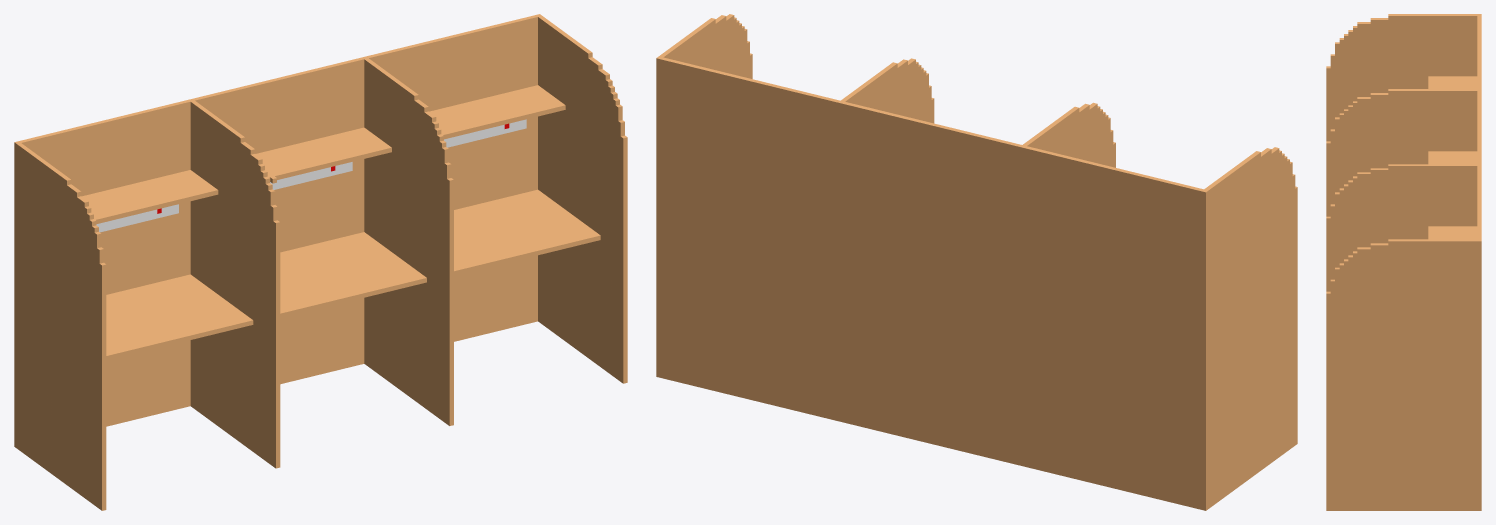
Rendered from oh my desk-1.obj.
3 renders of one model, left to right at view 1: azimuth 30°, elevation 25°; view 2: azimuth 150°, elevation 25°; view 3: azimuth 270°, elevation 25°, orthographic. The views are drawn at different scales.
Visible parts, largest first — view 1: oh my desk-1; view 2: oh my desk-1; view 3: oh my desk-1.
Part boxes in pixels (x1=…): oh my desk-1: x1=14, y1=14, x2=627, y2=510; oh my desk-1: x1=656, y1=14, x2=1297, y2=510; oh my desk-1: x1=1326, y1=14, x2=1481, y2=510.
Size of the model in its own units: 121 by 67 by 35.
1 material, 1 textured.
